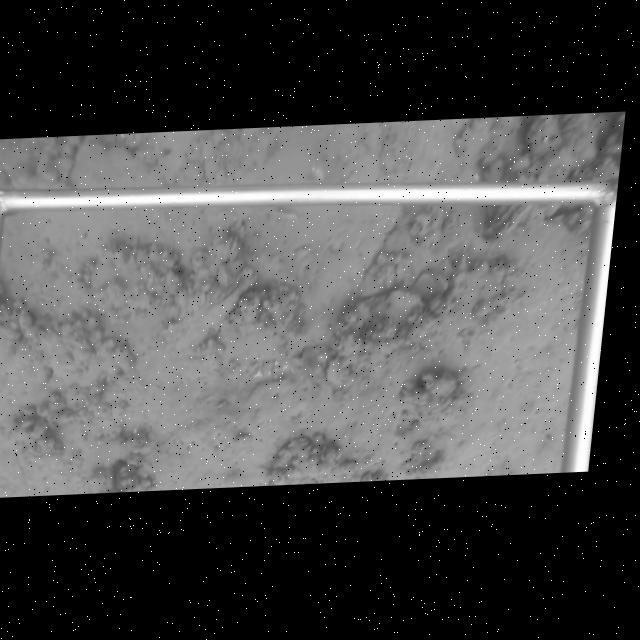Oyster-Closed: (323, 353, 348, 390)
Oyster-Indeterminate: (174, 271, 258, 351), (64, 143, 169, 187)
Oyster-Open: (480, 204, 521, 238)
